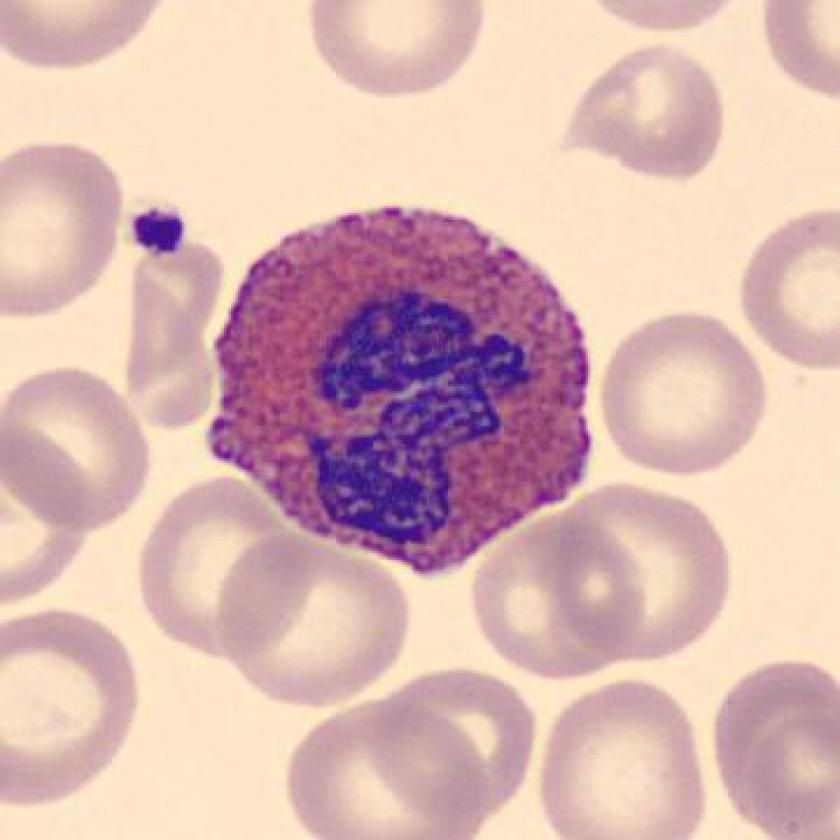eosinophil: (192, 191, 608, 593)
